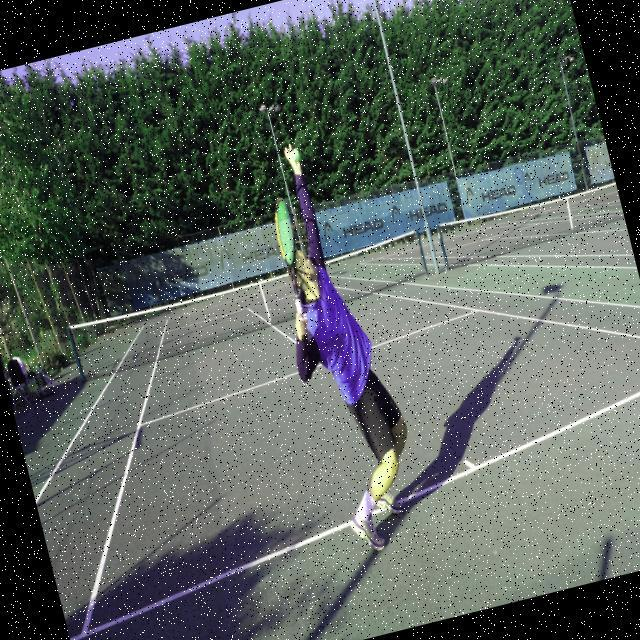court: (4, 213, 640, 640)
net: (52, 216, 438, 379)
player: (214, 114, 458, 572)
